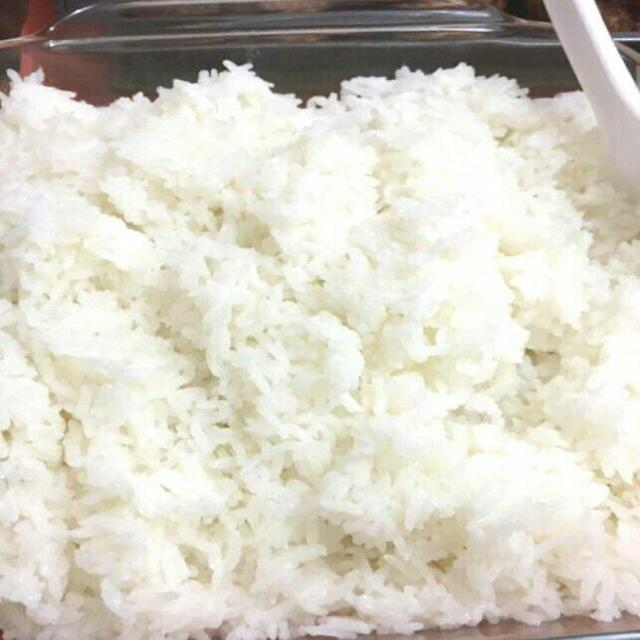rice: (0, 66, 639, 639)
